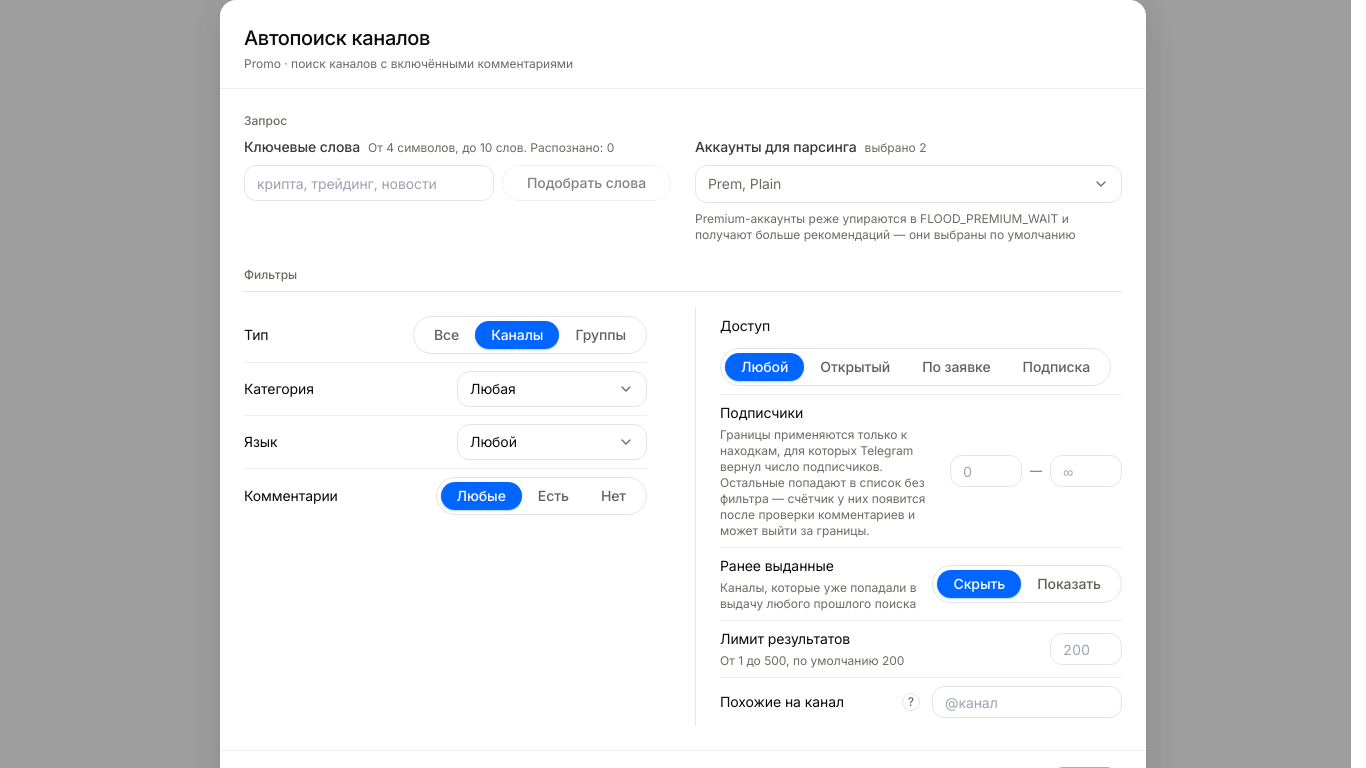
Test: ChannelDiscoveryModal › drops the already-running note once the operator goes back to the form
(page scrolled)
Type "crypto" into the field with placeholder "крипта, трейдинг, новости" at (369,183), box x1=244 y1=165 x2=494 y2=201
(page scrolled)
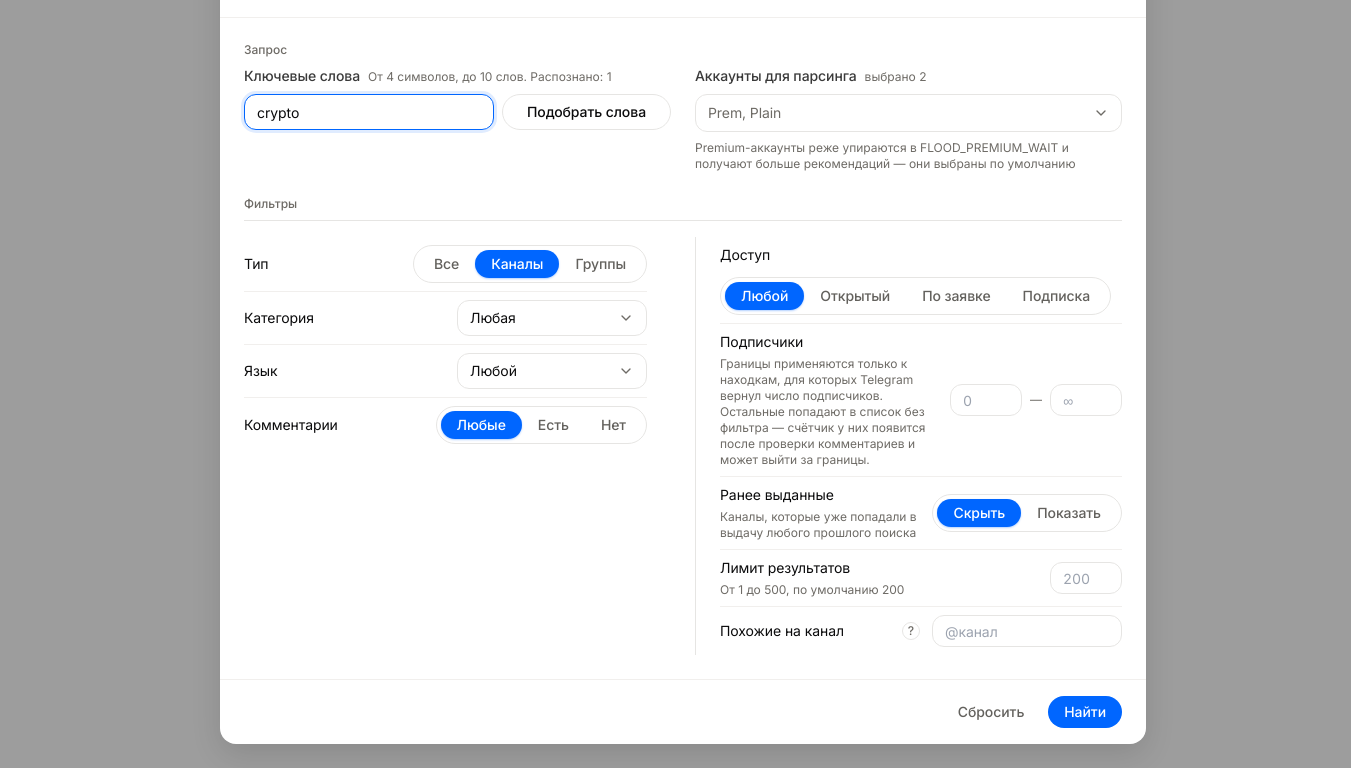
expect the button "Найти" is enabled: met
Click the button "Найти" at (1085,712), box x1=1048 y1=696 x2=1122 y2=728
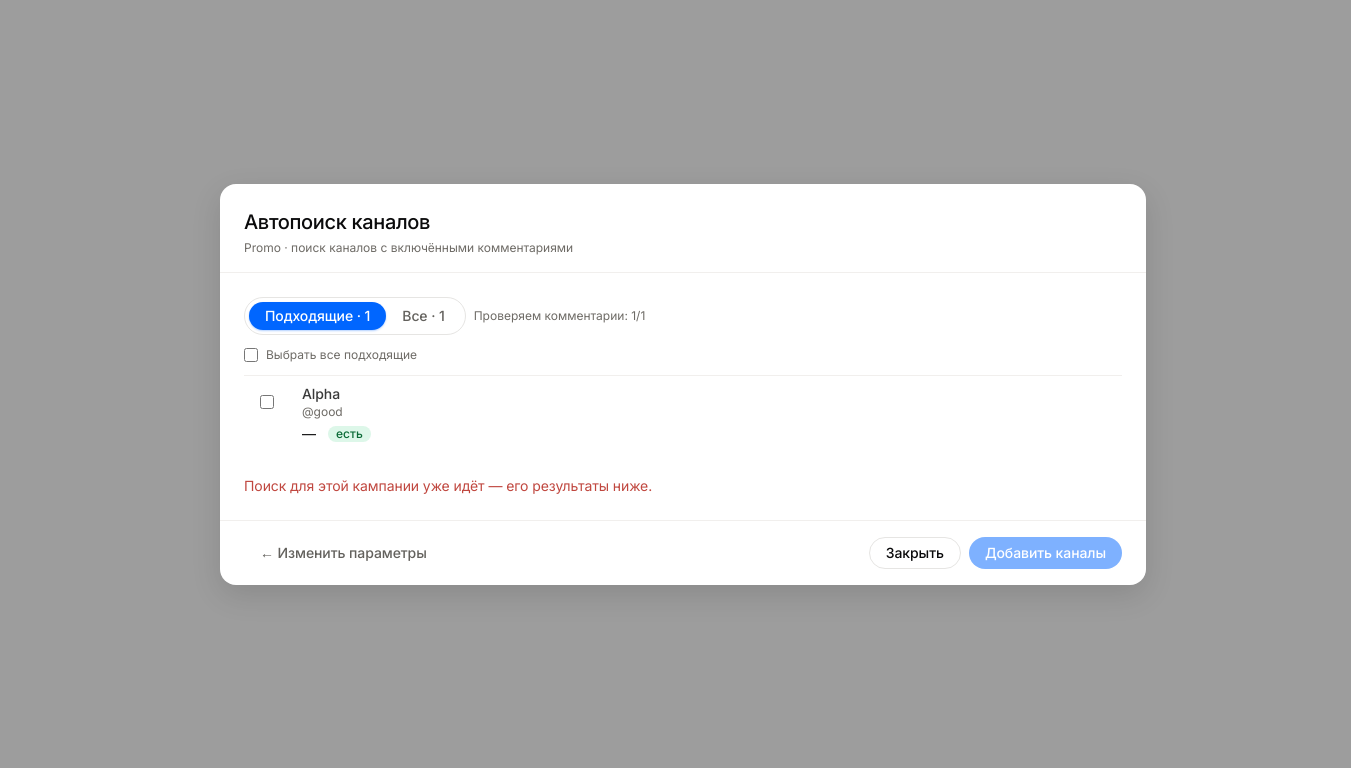
expect the text "Поиск для этой кампании уже идёт — его результаты ниже." is shown: met, box x1=244 y1=476 x2=652 y2=494
Click the button "← Изменить параметры" at (343,552), box x1=244 y1=536 x2=443 y2=568
(page scrolled)
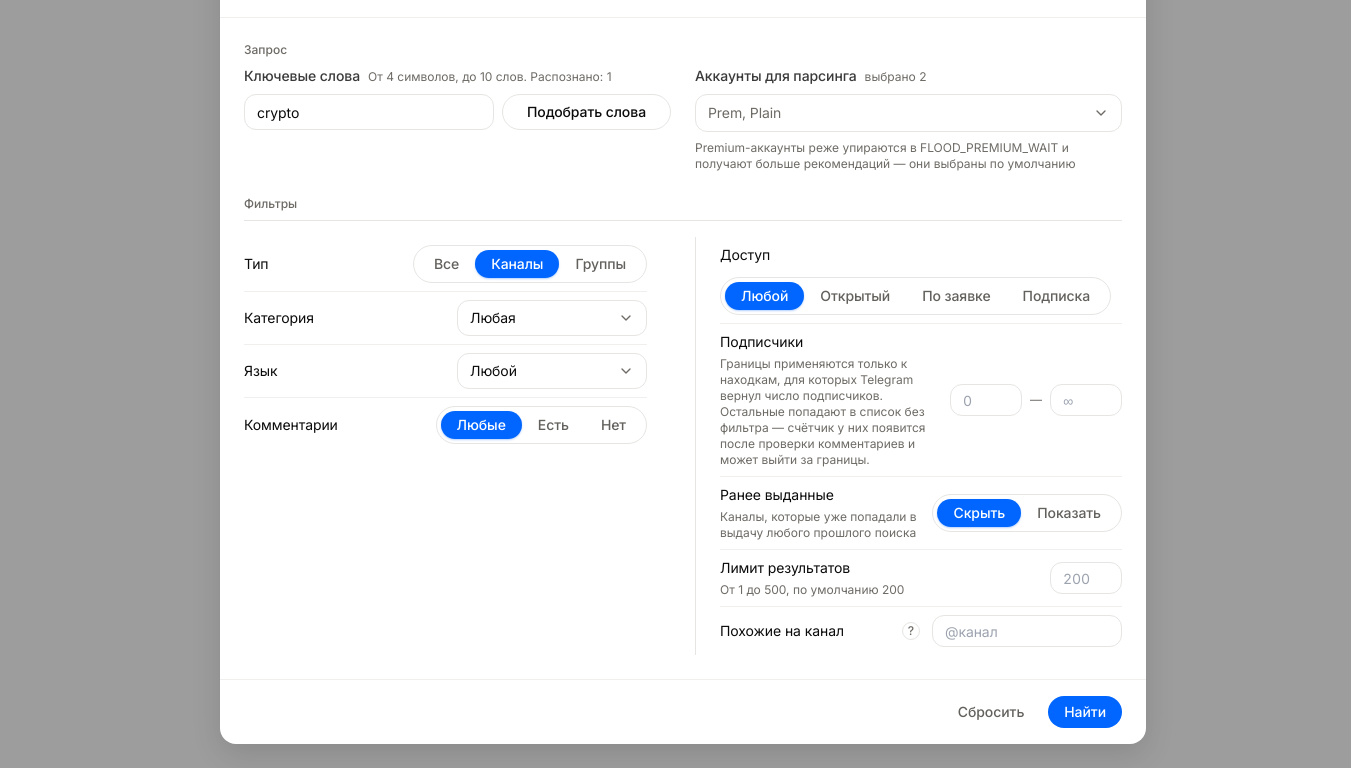
expect the button "Найти" is shown: met, box x1=1048 y1=696 x2=1122 y2=728
expect the text "Поиск для этой кампании уже идёт" is gone: met
